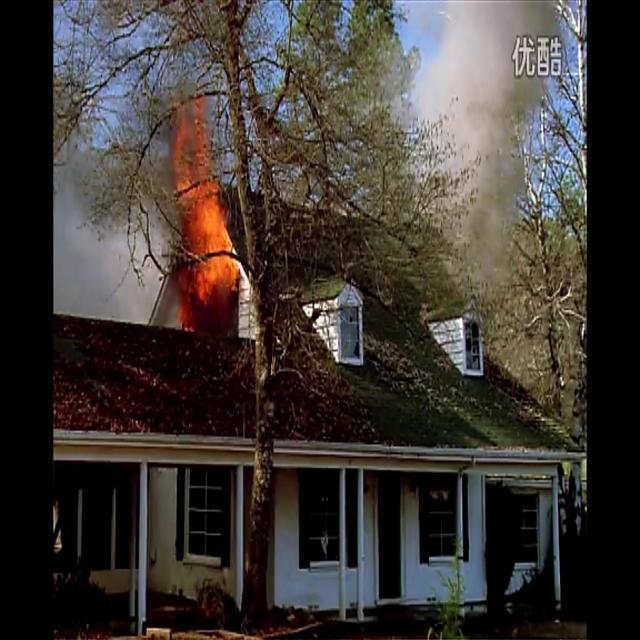Fire: (164, 92, 238, 332)
Smoke: (390, 1, 562, 310), (53, 152, 171, 329)
